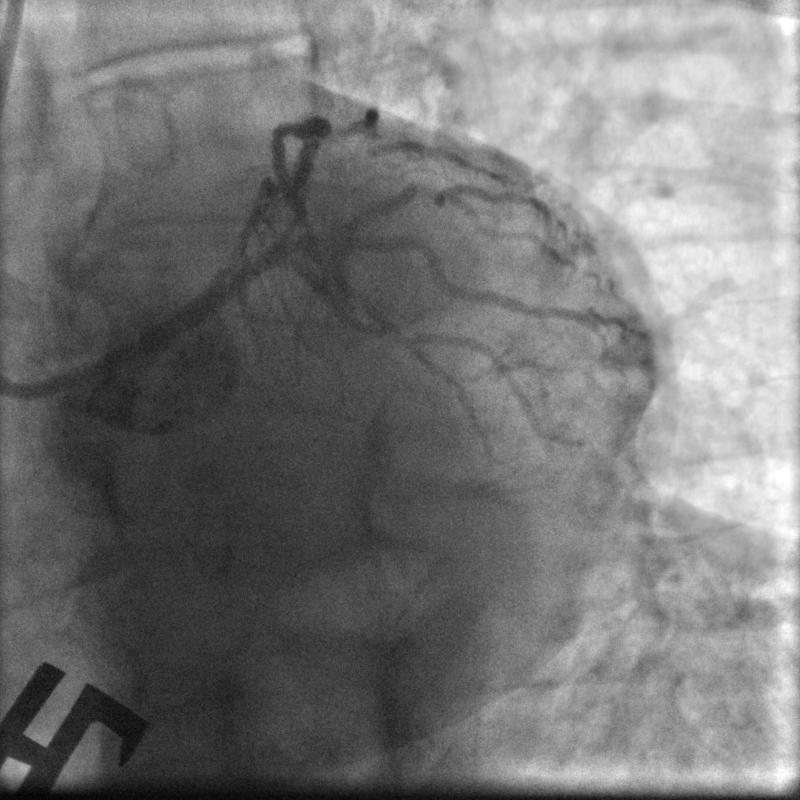Stenosis: (401, 179, 449, 205)
